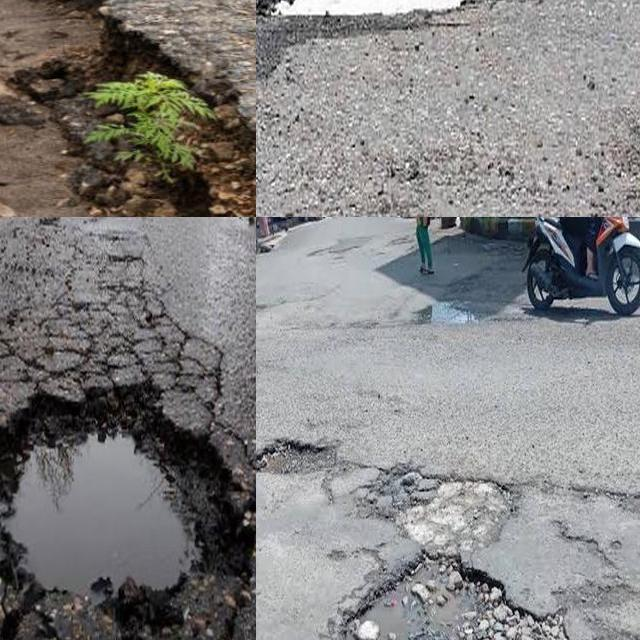Lubang: (0, 392, 254, 624), (343, 557, 567, 640), (256, 441, 335, 480)
Pinggir: (31, 0, 256, 217)
Retak Buaya: (0, 250, 228, 434)
